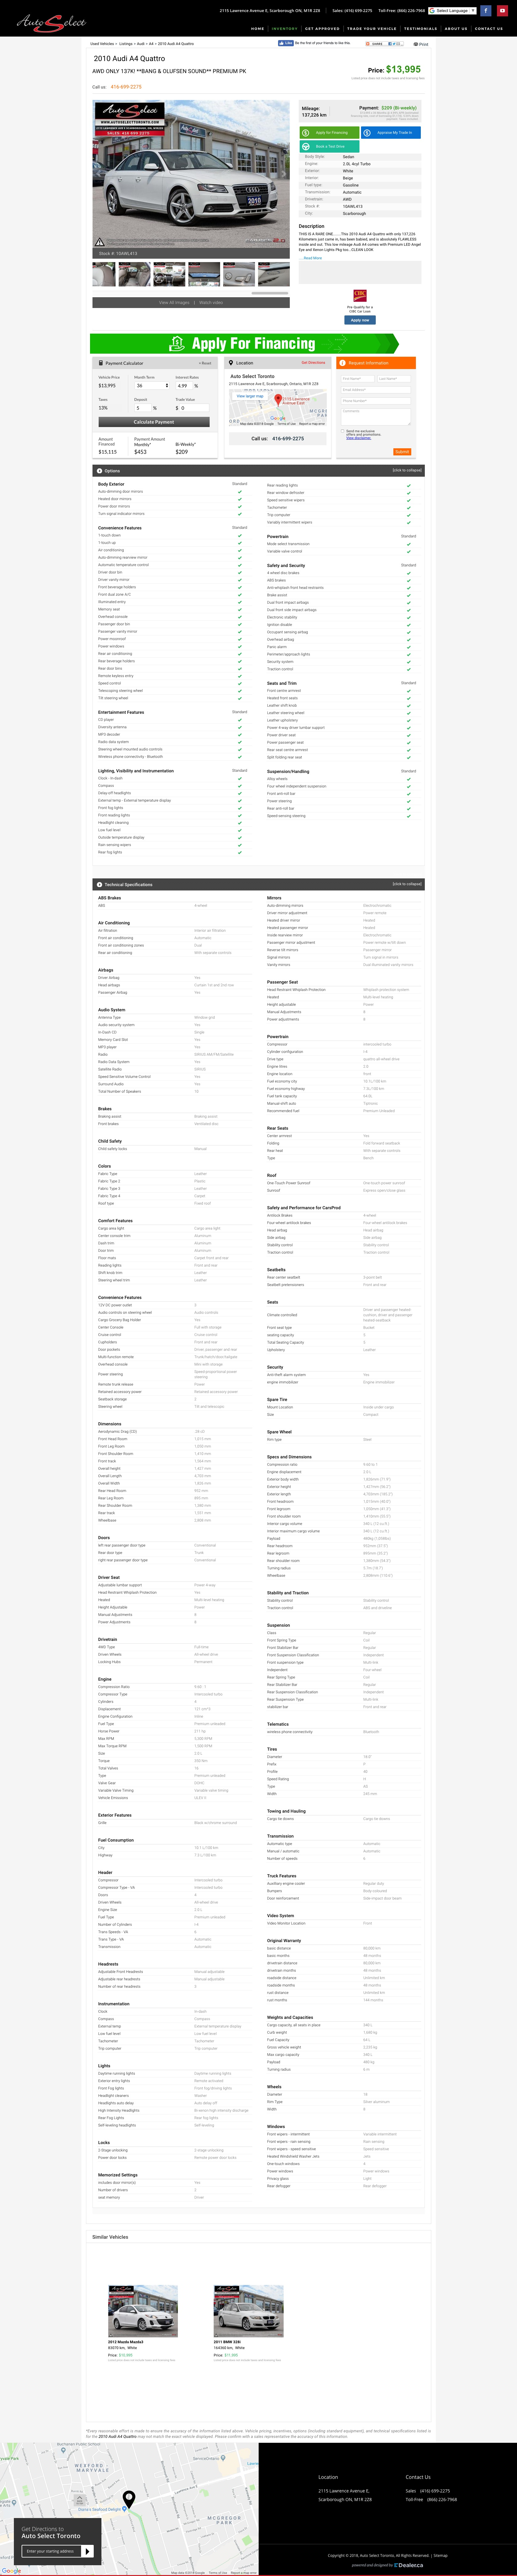car: (277, 168, 291, 181)
